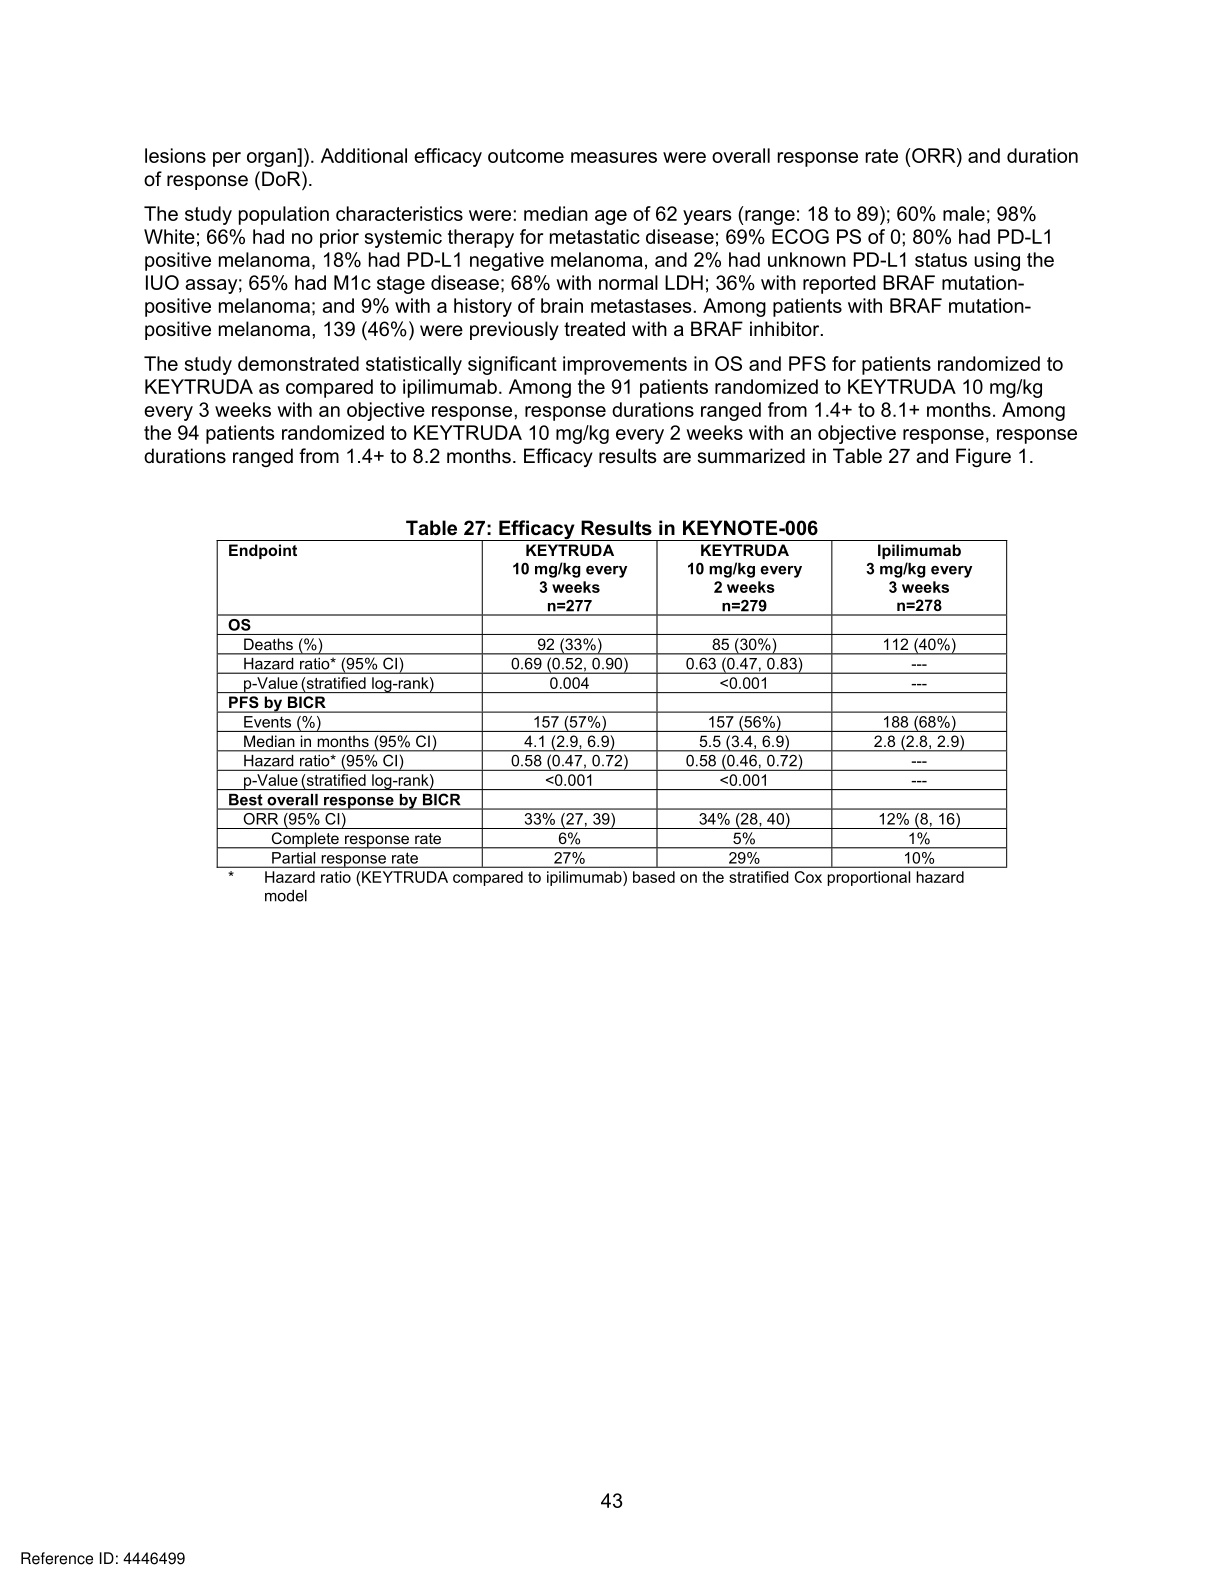full_lined: (212, 534, 1012, 870)
